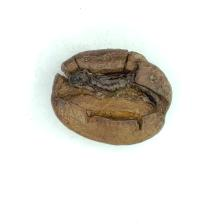NG: (59, 62, 160, 127)
